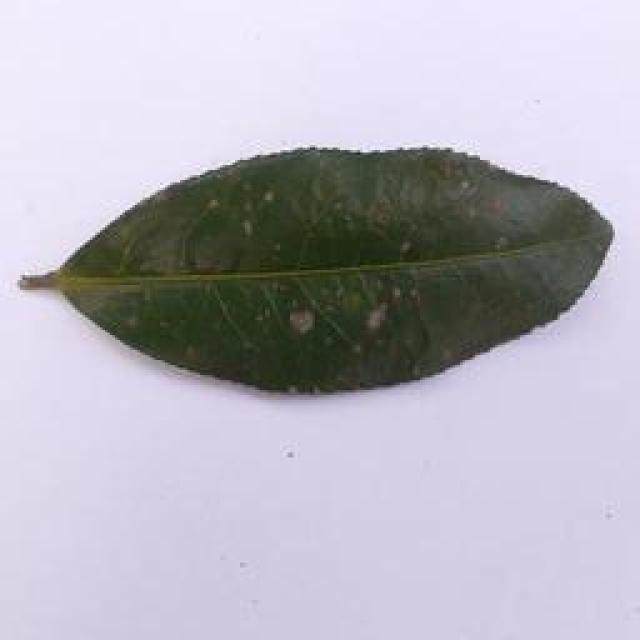Algal Leaf Spot: (10, 129, 640, 396)
